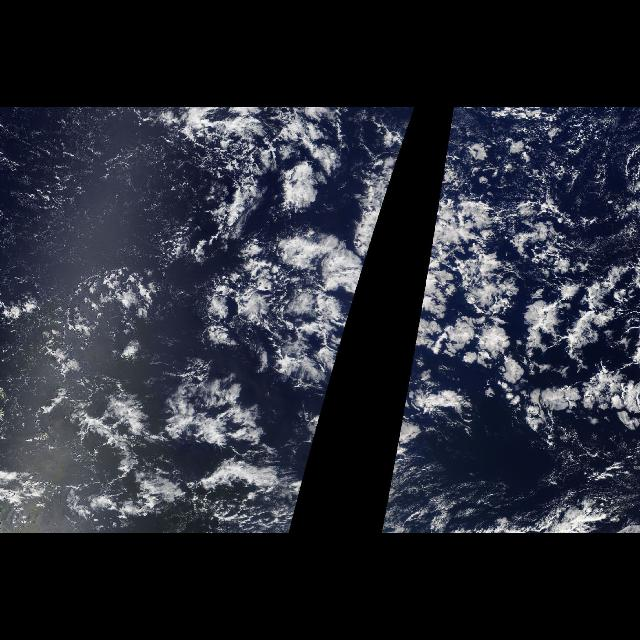Fish: (14, 344, 268, 464)
Flower: (400, 137, 638, 446), (189, 200, 385, 430)
Gravel: (1, 109, 230, 415)
